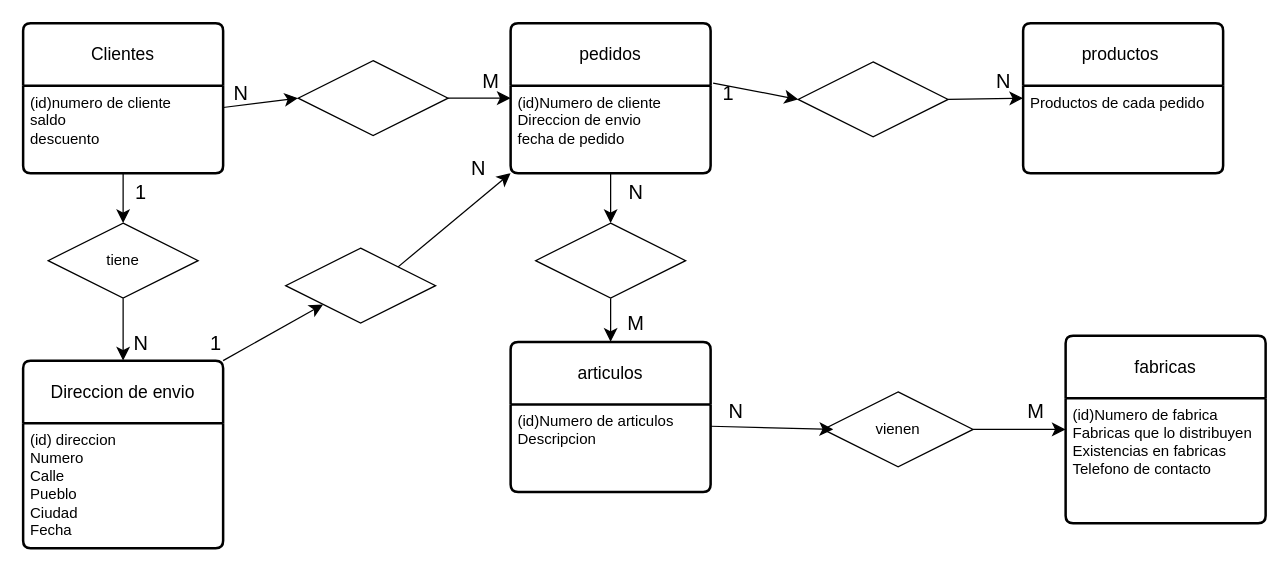
The diagram is 1288 pixels wide and 570 high, and some of its shapes have lost their labels. The shapes that lost their labels are listed below. From the top down, each one's centre as x and y in pixels, then its label:
point (372, 97): realizan
point (872, 99): tienen
point (610, 260): contiene
point (360, 285): usa
